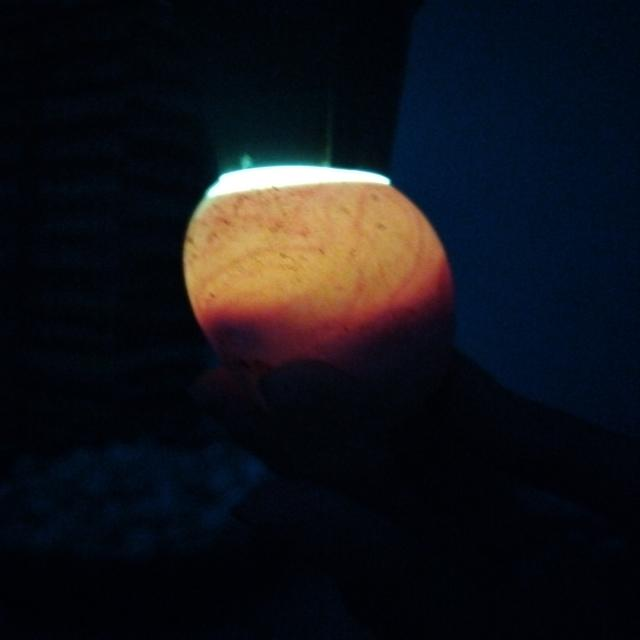Embriao: (201, 266, 458, 392)
